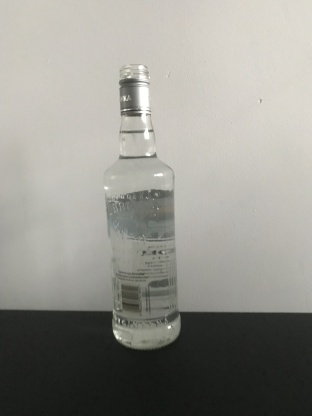nakretka: (117, 62, 151, 116)
